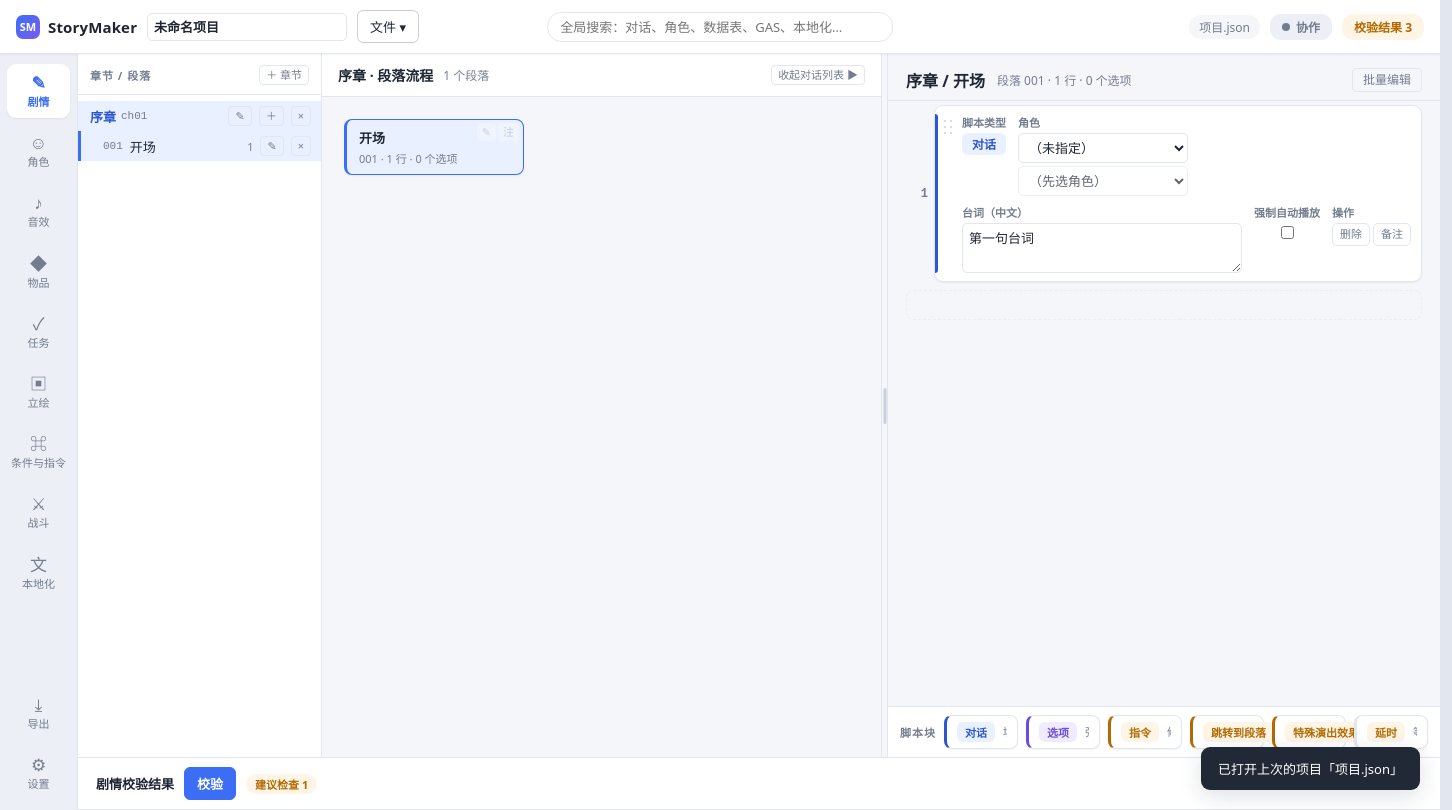
Test: 界面冒烟测试 › 本地化模块：剧情 / UI / 角色名 三页 › 搜索框对着当前这一页模糊搜索 key 与三语文本
Expected: the field titled "项目名称，也是导出文件名" is shown, [147, 12, 347, 40]
Click the text "本地化". click: (38, 583)
box: [22, 576, 55, 590]
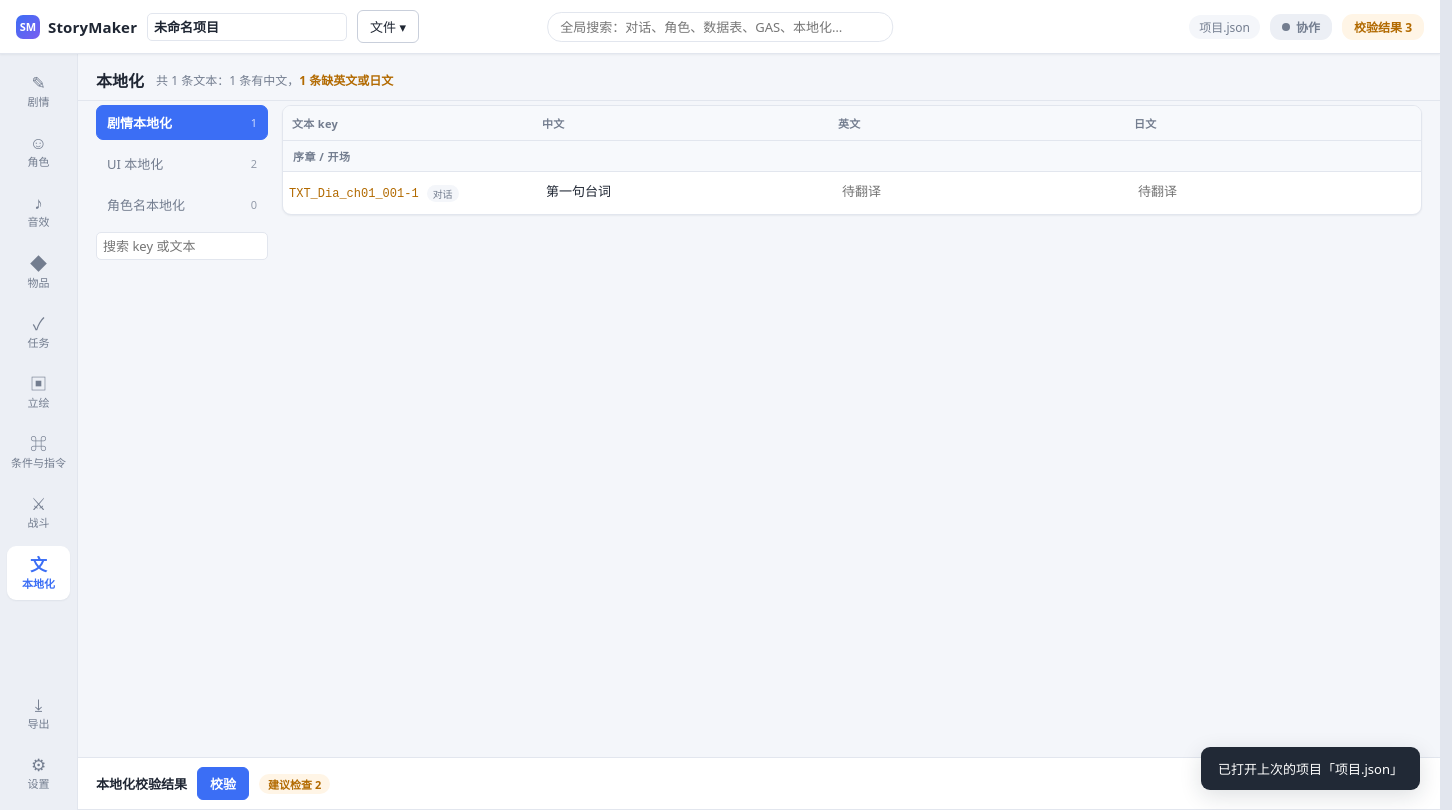
Type "TXT_Widget" into the field with placeholder "搜索 key 或文本". click: (182, 246)
box: [96, 232, 268, 260]
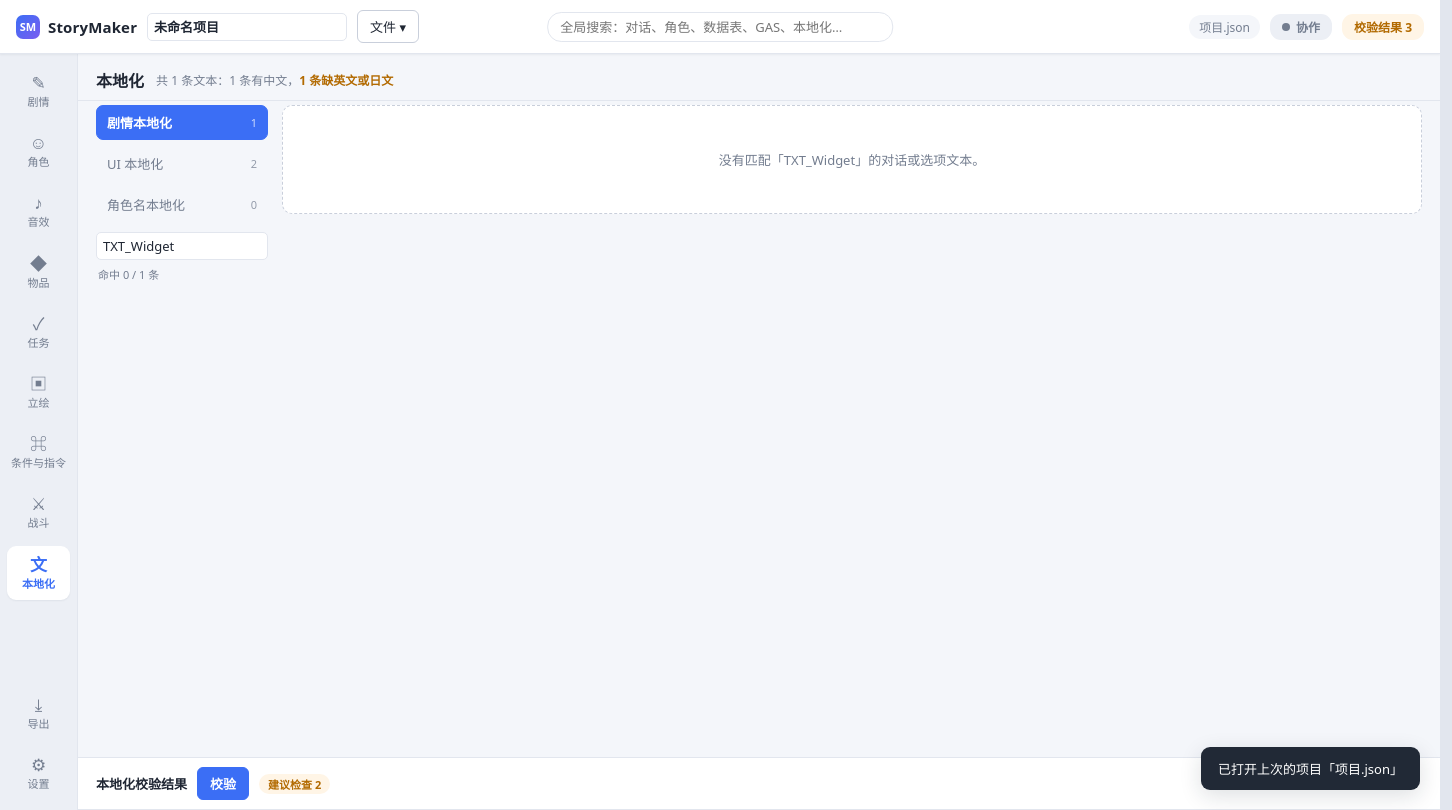
Result: the text "没有匹配「TXT_Widget」的对话或选项文本。" is shown at [282, 105, 1422, 214]
Click the button "UI 本地化 2". click: (182, 164)
box: [96, 146, 268, 181]
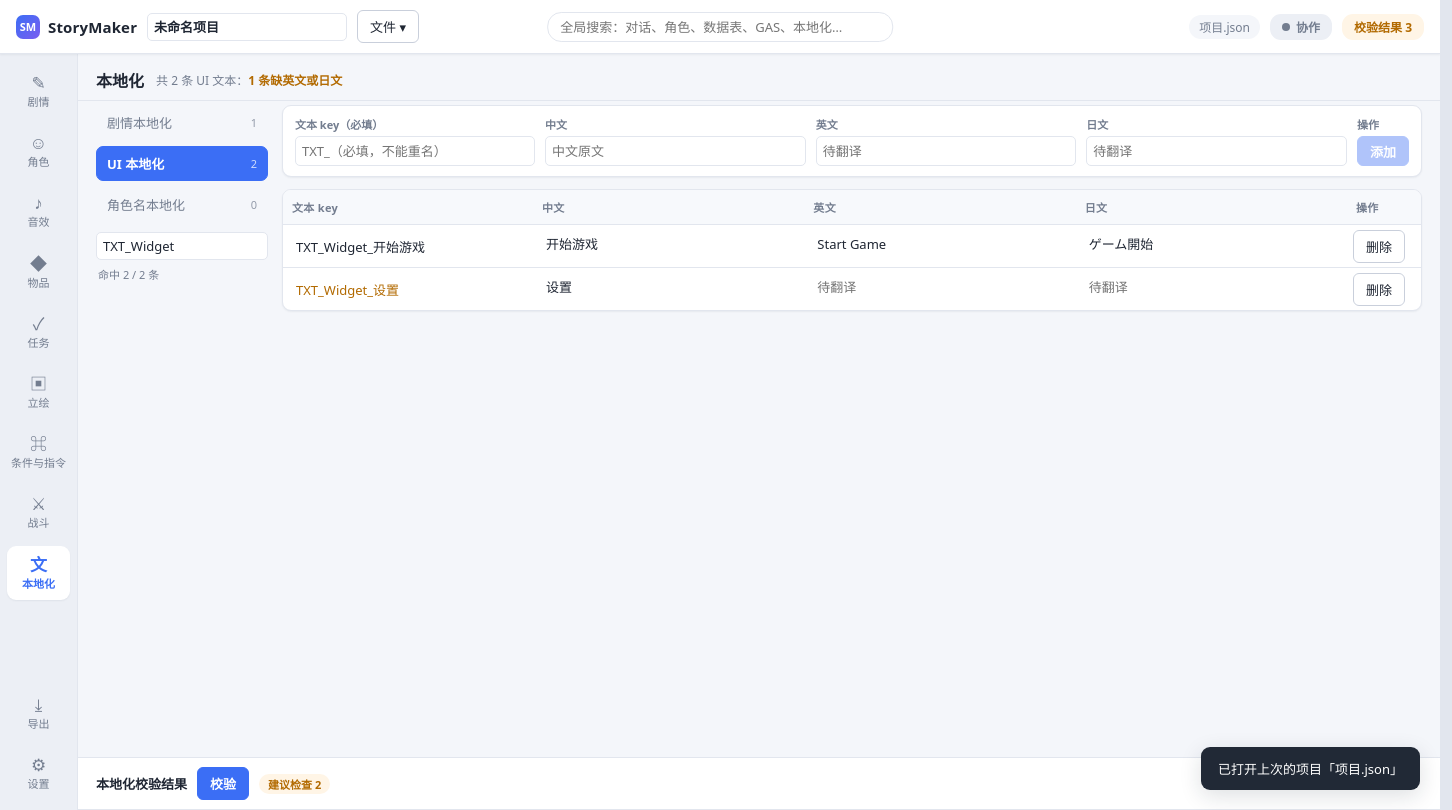
Result: the 1st field showing "TXT_Widget_开始游戏" is shown at [289, 232, 527, 260]
Result: the 2nd field showing "TXT_Widget_设置" is shown at [289, 275, 527, 303]
Replace the text in the field with placeholder "搜索 key 或文本" with "设置". click: (182, 246)
box: [96, 232, 268, 260]
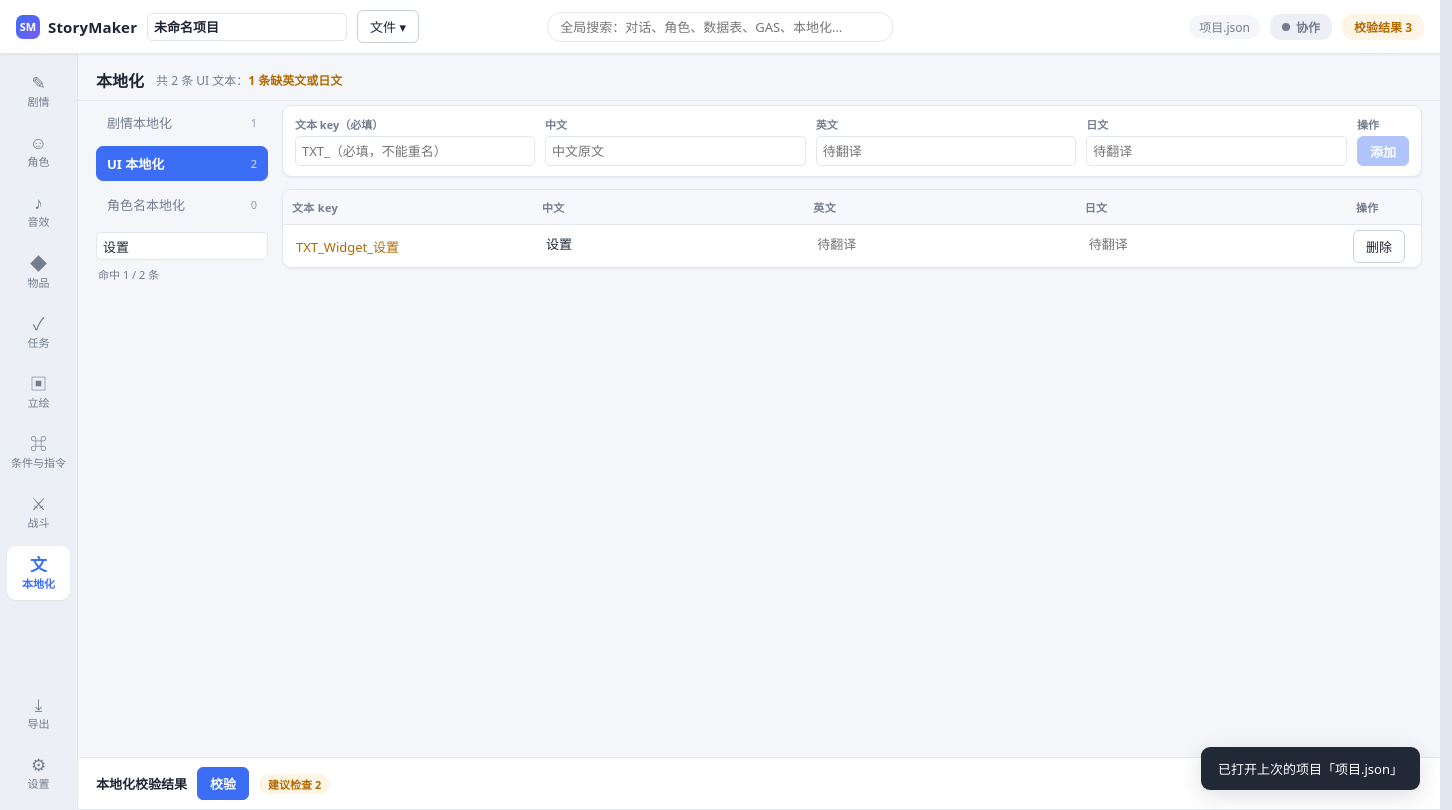
Expected: the field showing "TXT_Widget_开始游戏" is not shown
Result: the field showing "TXT_Widget_设置" is shown at [289, 232, 527, 260]
Replace the text in the field with placeholder "搜索 key 或文本" with "start game". click: (182, 246)
box: [96, 232, 268, 260]
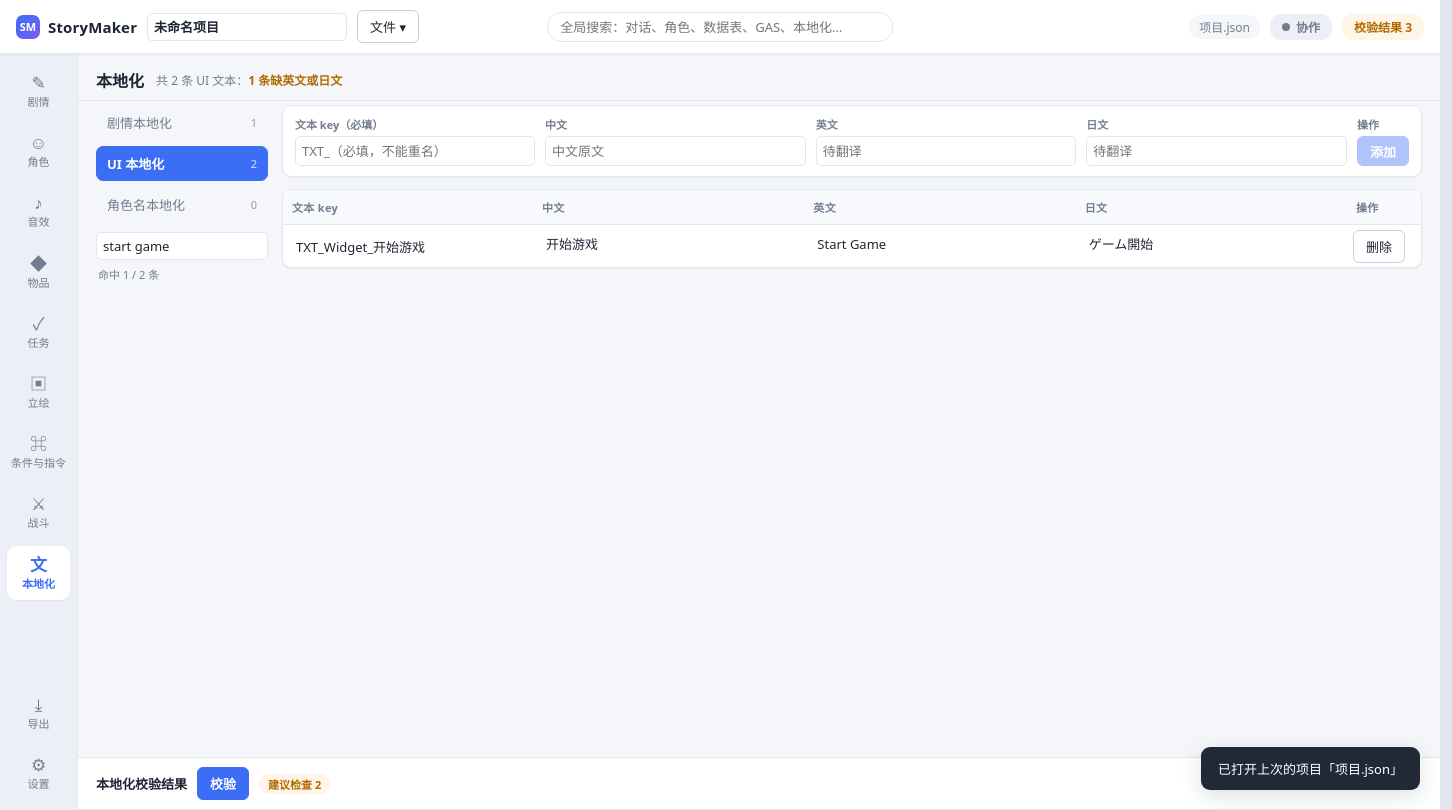
Expected: the field showing "TXT_Widget_设置" is not shown
Result: the field showing "TXT_Widget_开始游戏" is shown at [289, 232, 527, 260]
